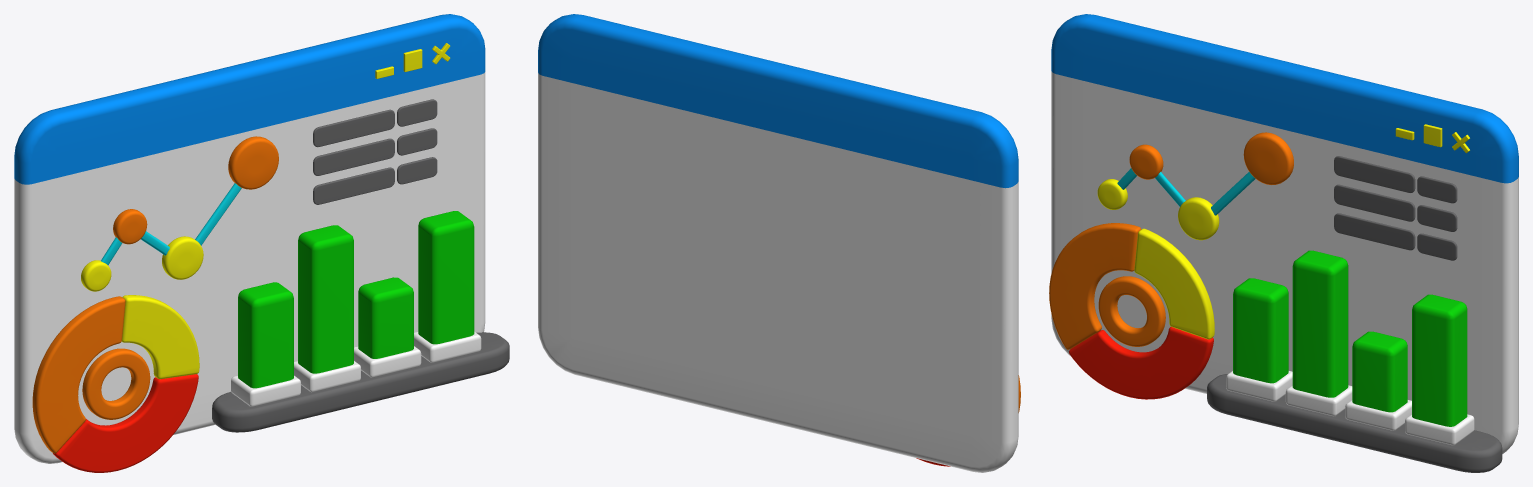
File: social-media-content-monitoring-1678897344015.glb
The picture shows the model from 3 angles, left to right: view 1: azimuth 30°, elevation 25°; view 2: azimuth 150°, elevation 25°; view 3: azimuth 330°, elevation 25°; orthographic projection. The views are drawn at different scales.
Visible parts, largest first — view 1: Screen, Bars, Graphic Pie, Curve; view 2: Screen; view 3: Screen, Bars, Graphic Pie, Curve.
Boxes of the visible parts, left/top/right/bottom form: Screen: left=14, top=14, right=485, bottom=463; Bars: left=212, top=211, right=509, bottom=432; Graphic Pie: left=32, top=295, right=199, bottom=472; Curve: left=81, top=136, right=278, bottom=291; Screen: left=538, top=14, right=1018, bottom=472; Screen: left=1051, top=14, right=1518, bottom=453; Bars: left=1207, top=250, right=1502, bottom=472; Graphic Pie: left=1049, top=223, right=1214, bottom=399; Curve: left=1097, top=132, right=1293, bottom=240.
Size of the model in its own units: 2.38 by 1.77 by 0.3565.
